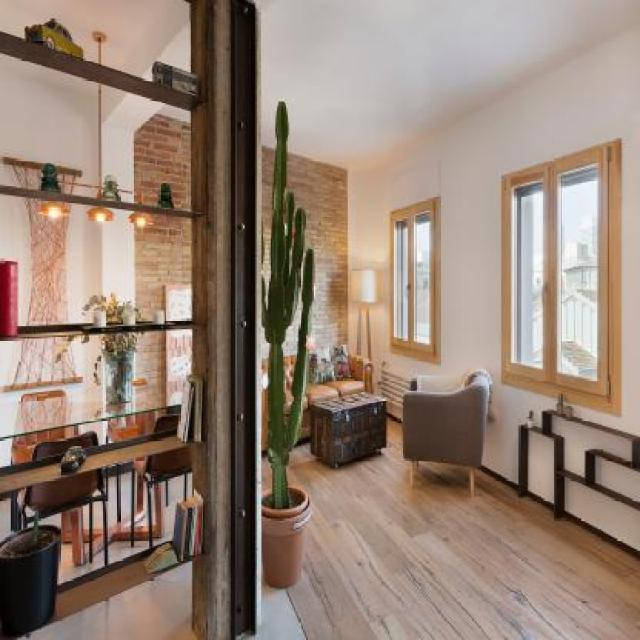floor: (290, 418, 640, 640)
